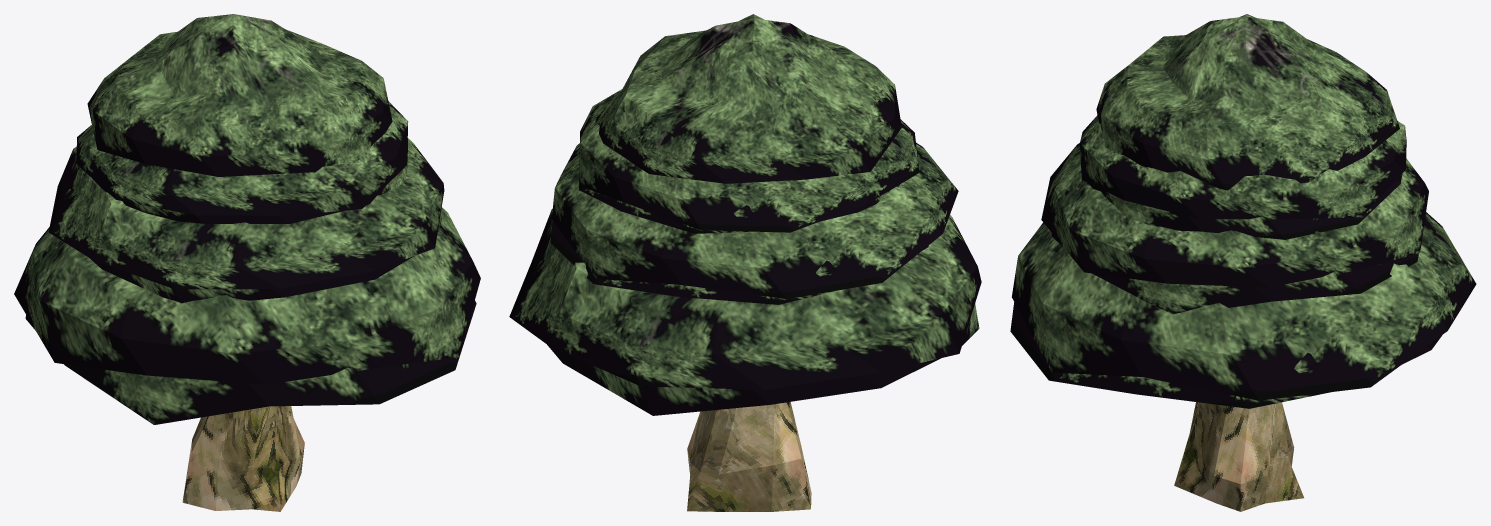
The model's file is Tree_C1B.fbx.
The picture shows the model from 3 angles, left to right: view 1: azimuth 30°, elevation 25°; view 2: azimuth 150°, elevation 25°; view 3: azimuth 270°, elevation 25°; orthographic projection. The views are drawn at different scales.
Visible parts, largest first — view 1: Tree_C1B; view 2: Tree_C1B; view 3: Tree_C1B.
Part boxes in pixels (<box>): Tree_C1B: <box>14,14,480,511</box>; Tree_C1B: <box>509,14,981,511</box>; Tree_C1B: <box>1010,14,1476,511</box>.
Size of the model in its own units: 9.72 by 10.89 by 9.91.
